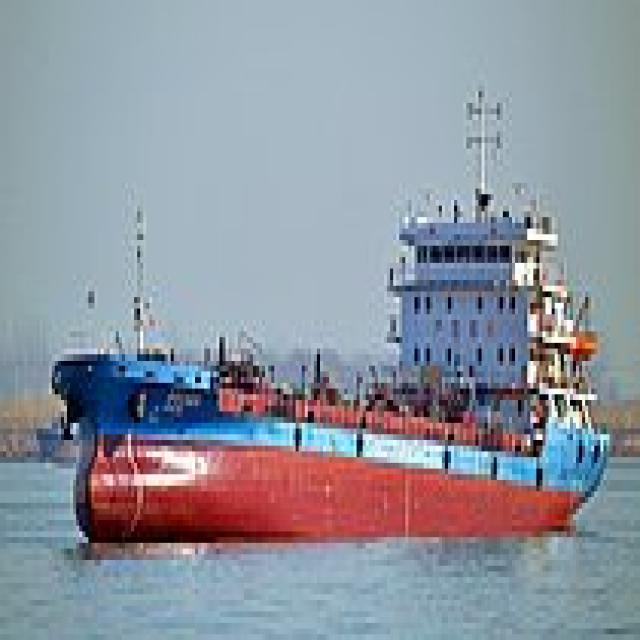Tanker: (48, 80, 612, 537)
